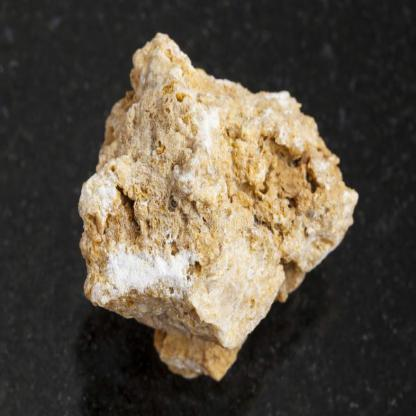Sedimentary_Limestone: (75, 27, 356, 383)
